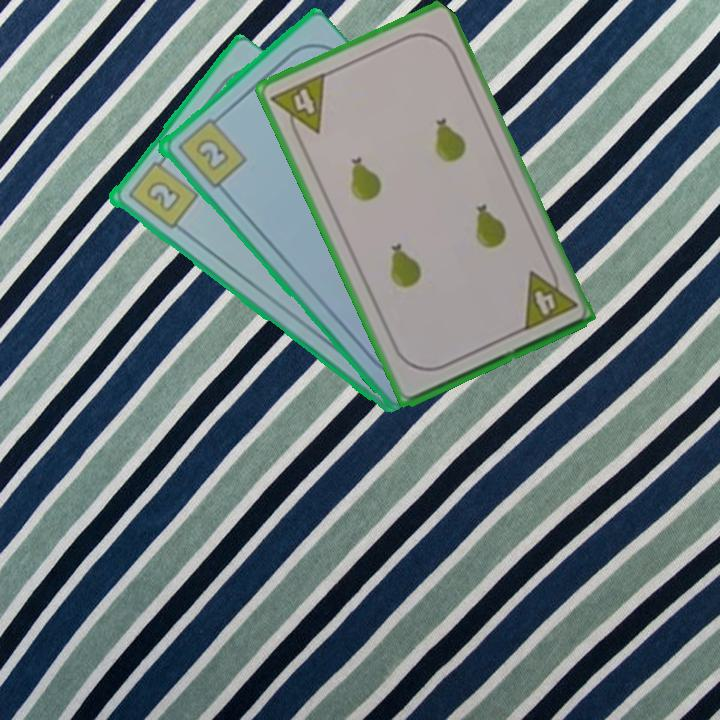2b: (123, 152, 200, 232), (173, 110, 249, 191)
4p: (267, 69, 329, 145), (519, 260, 580, 334)
